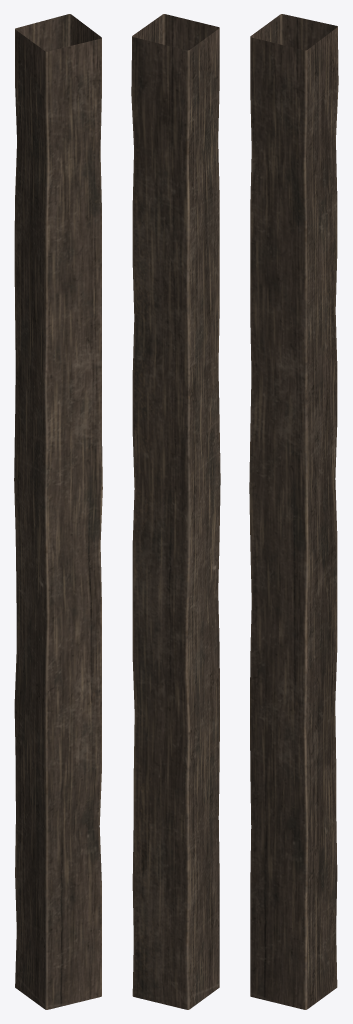
Rendered from SM_Pole_Large_01.fbx.
3 views of the same model, side by side, from view 1: azimuth 30°, elevation 25°; view 2: azimuth 150°, elevation 25°; view 3: azimuth 330°, elevation 25° (orthographic).
Parts seen in each view (by area): view 1: SM_Pole_Large_01_LOD0; view 2: SM_Pole_Large_01_LOD0; view 3: SM_Pole_Large_01_LOD0.
Boxes of the visible parts, left/top/right/bottom form: SM_Pole_Large_01_LOD0: left=14, top=14, right=102, bottom=1009; SM_Pole_Large_01_LOD0: left=131, top=14, right=220, bottom=1009; SM_Pole_Large_01_LOD0: left=249, top=14, right=338, bottom=1009.
Size of the model in its own units: 66.98 by 66.95 by 1050.
